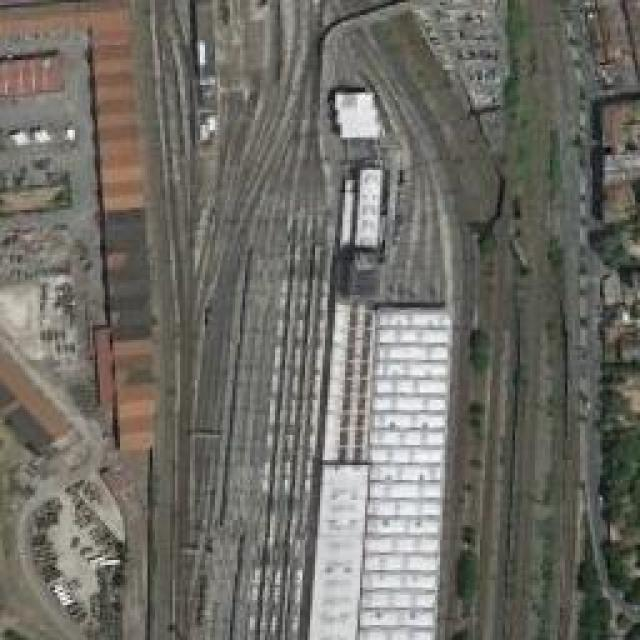Railway: (121, 0, 523, 631)
